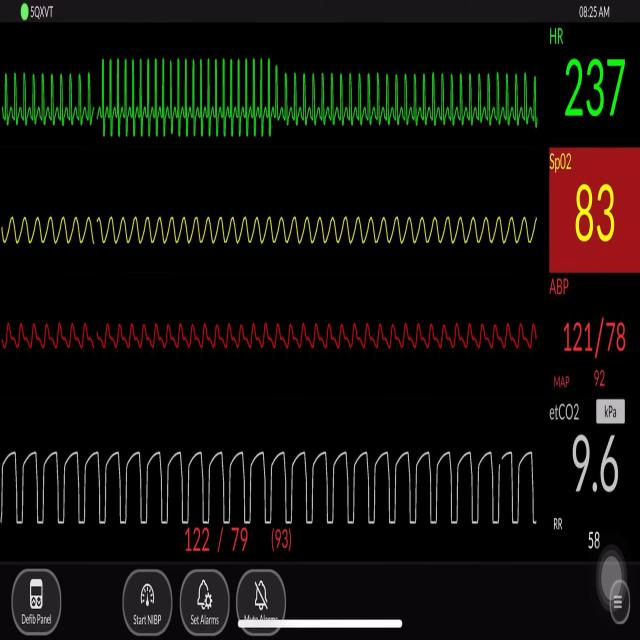danger: (288, 54, 552, 141), (98, 40, 282, 151), (3, 54, 95, 141)
